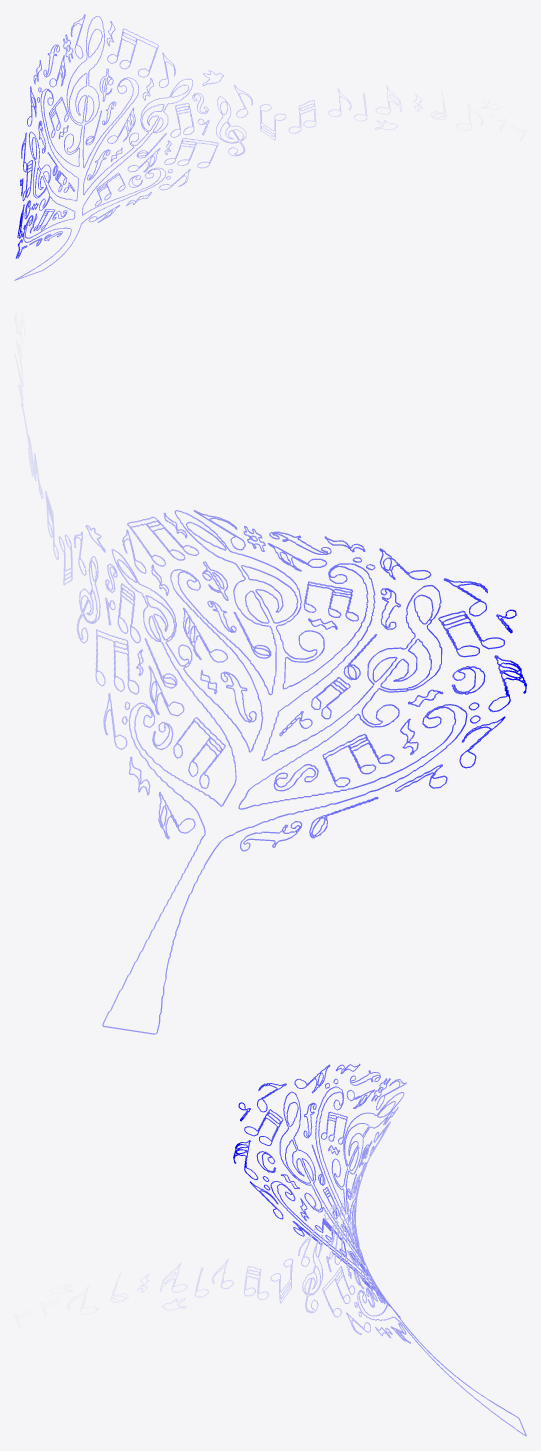
3 views of the same model, one above another, from view 1: azimuth 30°, elevation 25°; view 2: azimuth 150°, elevation 25°; view 3: azimuth 270°, elevation 25° (orthographic). The views are drawn at different scales.
Bounding box in the file's own units: 1.58 × 1.08 × 1.43.
